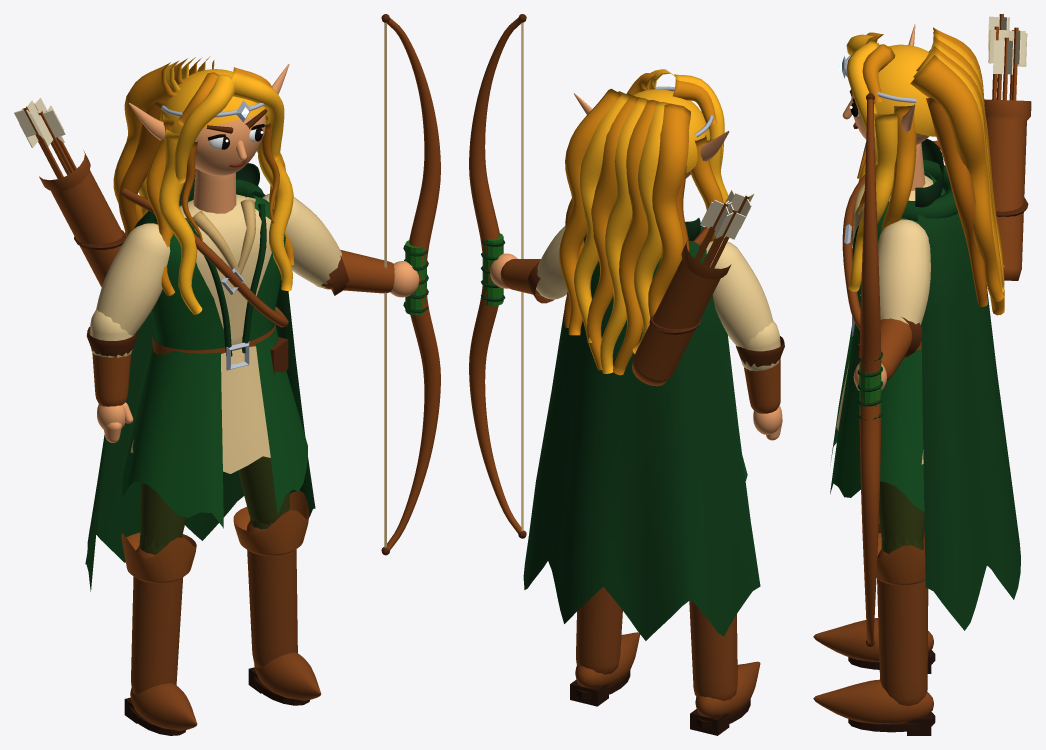
The model's file is elf.glb.
The picture shows the model from 3 angles, left to right: view 1: azimuth 30°, elevation 25°; view 2: azimuth 150°, elevation 25°; view 3: azimuth 270°, elevation 25°; orthographic projection. The views are drawn at different scales.
Visible parts, largest first — view 1: hips_vest, cloak, armR_lower_bow, vest_torso, shin_-1_boot, shin_1_boot, armL_upper, hips_shirt, quiver, shirt_torso, armR_upper, head_lock_-1 (+29 smaller); view 2: cloak, armR_lower_bow, quiver, tail_lock_0, tail_lock_2, tail_lock_3, armL_upper, tail_lock_4, tail_lock_6, shin_-1_boot, tail_lock_1, tail_lock_5 (+17 smaller); view 3: cloak, hips_vest, armR_lower_bow, tail_lock_6, shin_1_boot, quiver, armR_upper, tail_lock_side_1, shin_1_foot, head_hair_cap, head_lock_1, thigh_1 (+19 smaller).
Boxes of the visible parts, <box> form: hips_vest: <box>122,322,307,528</box>; cloak: <box>85,191,315,591</box>; armR_lower_bow: <box>386,18,440,549</box>; vest_torso: <box>151,191,285,350</box>; shin_-1_boot: <box>131,546,183,694</box>; shin_1_boot: <box>246,521,297,668</box>; armL_upper: <box>96,223,170,335</box>; hips_shirt: <box>130,346,270,473</box>; quiver: <box>39,150,123,287</box>; shirt_torso: <box>179,194,271,345</box>; armR_upper: <box>262,193,341,288</box>; head_lock_-1: <box>159,127,202,314</box>; cloak: <box>523,235,760,640</box>; armR_lower_bow: <box>469,17,521,533</box>; quiver: <box>632,240,731,386</box>; tail_lock_0: <box>648,103,690,318</box>; tail_lock_2: <box>613,100,659,375</box>; tail_lock_3: <box>600,97,648,373</box>; armL_upper: <box>706,240,772,347</box>; tail_lock_4: <box>586,93,638,370</box>; tail_lock_6: <box>559,88,621,335</box>; shin_-1_boot: <box>689,600,737,700</box>; tail_lock_1: <box>632,102,670,353</box>; tail_lock_5: <box>574,91,629,342</box>; cloak: <box>917,213,1020,630</box>; hips_vest: <box>830,323,924,511</box>; armR_lower_bow: <box>859,99,881,644</box>; tail_lock_6: <box>910,55,1004,301</box>; shin_1_boot: <box>877,548,928,705</box>; quiver: <box>984,99,1031,280</box>; armR_upper: <box>878,219,930,324</box>; tail_lock_side_1: <box>926,97,988,306</box>; shin_1_foot: <box>813,679,933,723</box>; head_hair_cap: <box>875,44,935,136</box>; head_lock_1: <box>848,112,897,291</box>; thigh_1: <box>879,481,924,546</box>.
Size of the model in its own units: 2.78 by 4.93 by 1.43.
